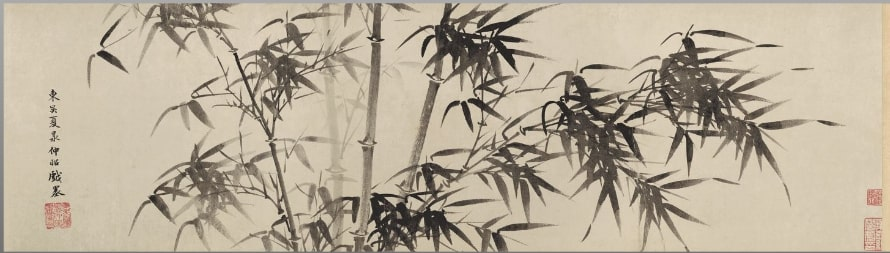bamboo: (295, 3, 502, 253), (502, 54, 805, 223), (128, 2, 298, 253)
